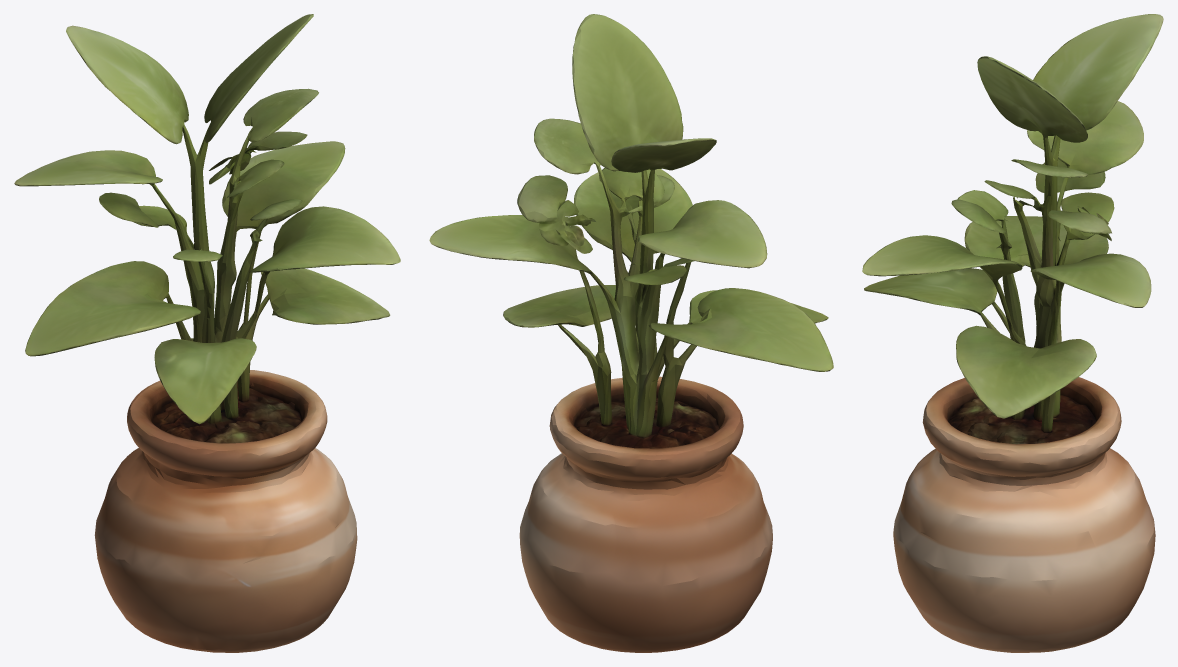
The model's file is PottedGreenPlant.glb.
3 renders of one model, left to right at view 1: azimuth 30°, elevation 25°; view 2: azimuth 150°, elevation 25°; view 3: azimuth 270°, elevation 25°, orthographic. The views are drawn at different scales.
Parts seen in each view (by area): view 1: model; view 2: model; view 3: model.
Boxes of the visible parts, left/top/right/bottom form: model: left=14, top=14, right=400, bottom=652; model: left=429, top=14, right=833, bottom=652; model: left=862, top=14, right=1163, bottom=652.
Bounding box in the file's own units: 1.13 × 1.77 × 0.8169.
Materials: 1 (1 with a texture image).
